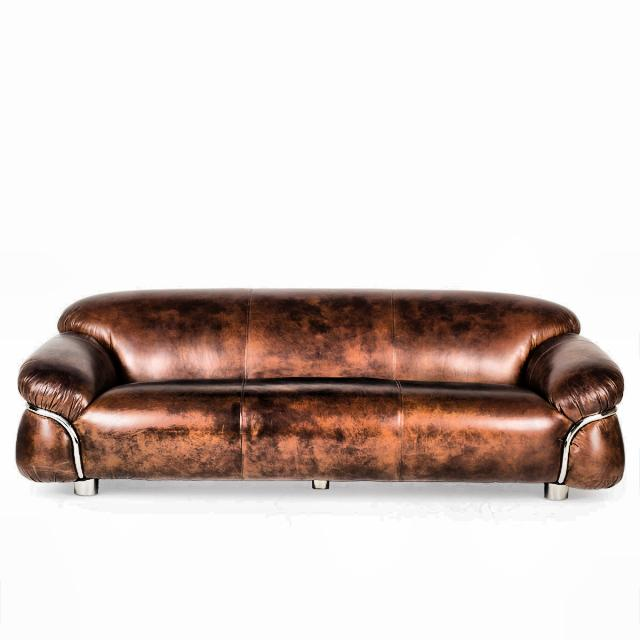sofa: (14, 286, 626, 501)
